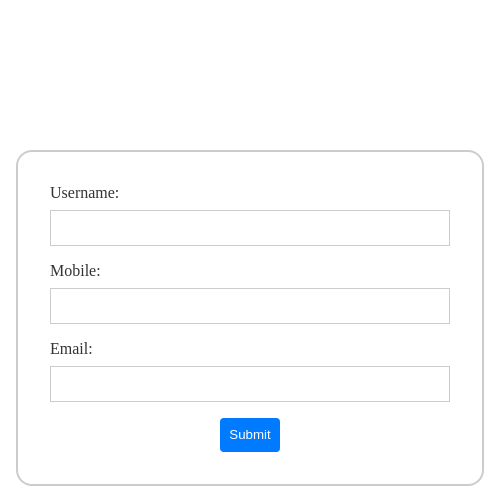
Test: UserForm Componet › displays banner on successful submission
Type "John Doe" into the field labelled "Username:" at (250, 228), box [50,210,450,246]
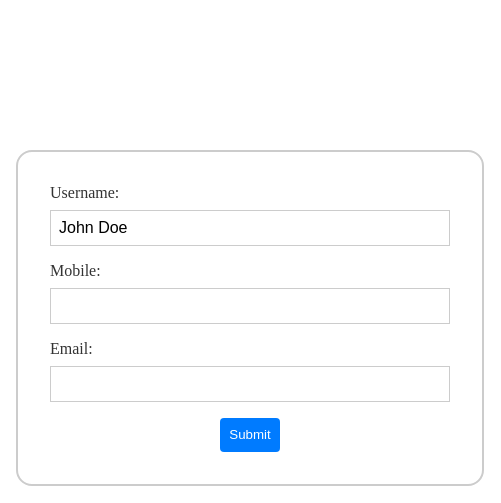
Type "9876543210" into the field labelled "Mobile:" at (250, 306), box [50,288,450,324]
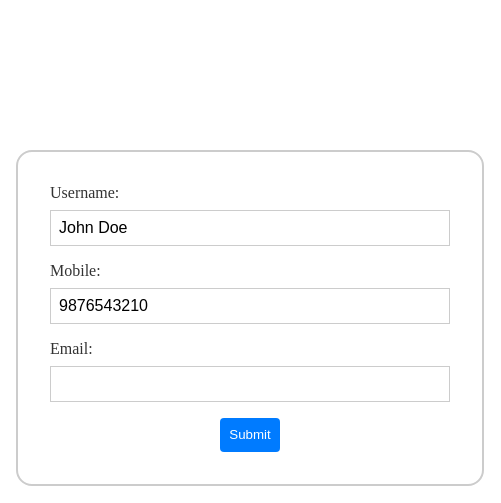
Type "john@example.com" into the field labelled "Email:" at (250, 384), box [50,366,450,402]
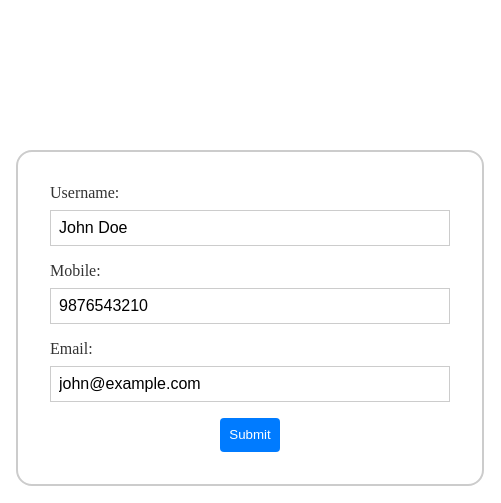
Submit the form from the button "Submit", box [220,418,280,452]
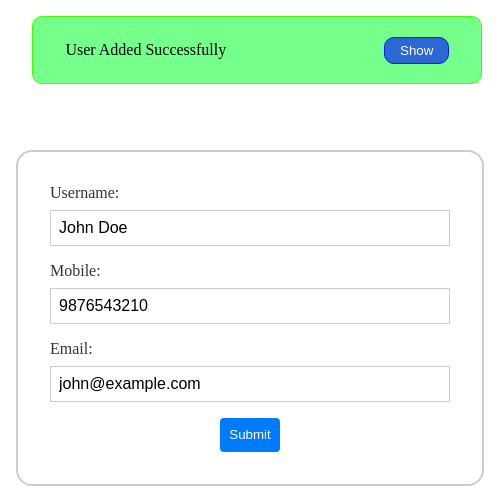
Expected: the text "User Added Successfully" is shown, [65,41,226,59]
